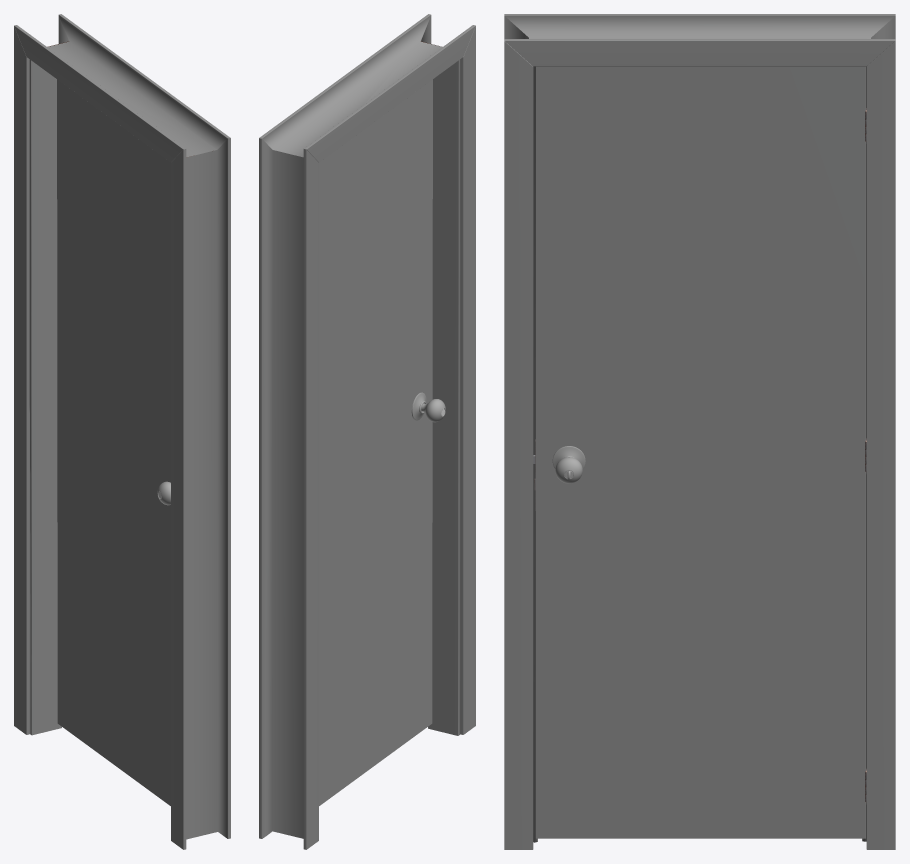
The model's file is Pintu ke Securty dan Electirity room.fbx.
The picture shows the model from 3 angles, left to right: view 1: azimuth 30°, elevation 25°; view 2: azimuth 150°, elevation 25°; view 3: azimuth 270°, elevation 25°; orthographic projection. The views are drawn at different scales.
Parts seen in each view (by area): view 1: Cylinder.004, Cylinder.006; view 2: Cylinder.004, Cylinder.006; view 3: Cylinder.006, Cylinder.004.
Part boxes in pixels (x1,y1,x2,y2): Cylinder.004: [14, 14, 230, 849]; Cylinder.006: [57, 79, 170, 805]; Cylinder.004: [259, 14, 475, 849]; Cylinder.006: [319, 79, 445, 805]; Cylinder.006: [533, 66, 866, 838]; Cylinder.004: [504, 14, 895, 849].
Size of the model in its own units: 26.2 by 260 by 114.
